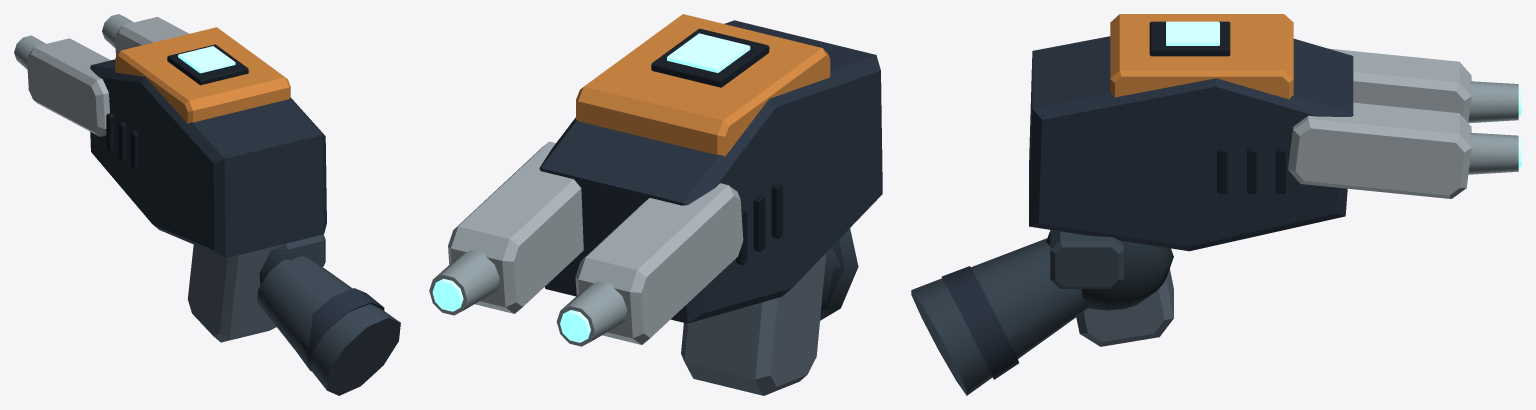
File: field_repair_tool.glb
3 renders of one model, left to right at view 1: azimuth 30°, elevation 25°; view 2: azimuth 150°, elevation 25°; view 3: azimuth 270°, elevation 25°, orthographic. The views are drawn at different scales.
Visible parts, largest first — view 1: field_repair_tool; view 2: field_repair_tool; view 3: field_repair_tool.
Part boxes in pixels (bbox=[...]): field_repair_tool: bbox=[14, 14, 400, 395]; field_repair_tool: bbox=[429, 14, 882, 395]; field_repair_tool: bbox=[911, 14, 1521, 395].
Size of the model in its own units: 0.3174 by 0.5178 by 0.8706.
